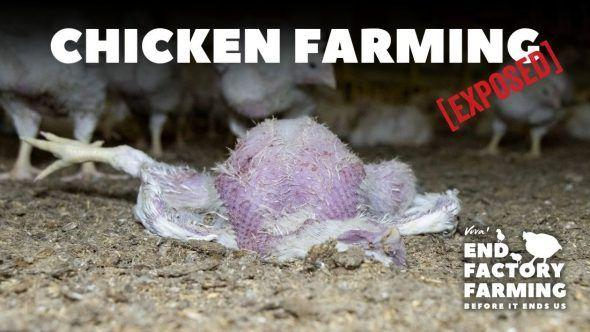AbNormal: (24, 92, 458, 273)
